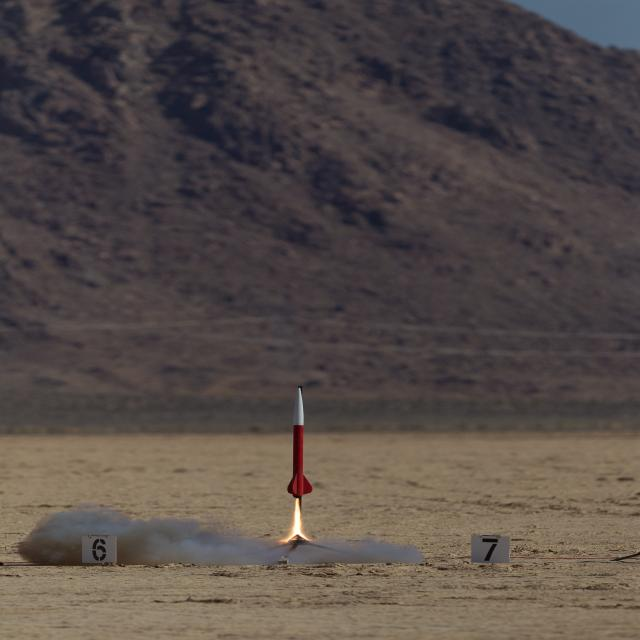Rocket: (287, 384, 314, 498)
